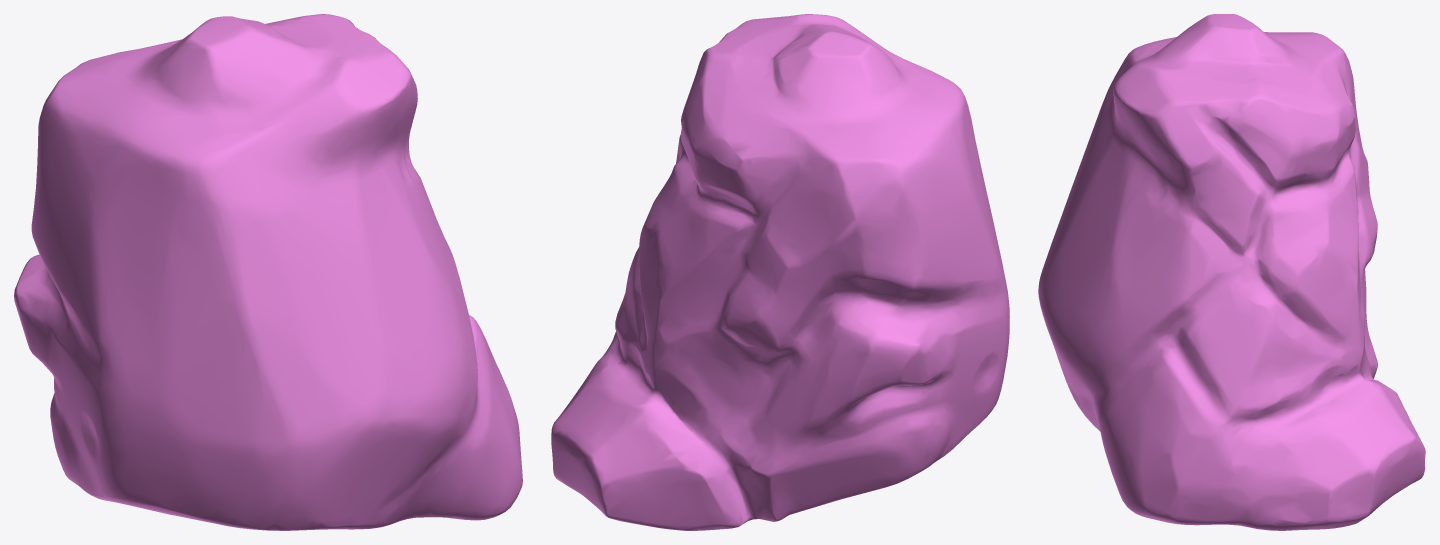
The model's file is Rock.fbx.
The picture shows the model from 3 angles, left to right: view 1: azimuth 30°, elevation 25°; view 2: azimuth 150°, elevation 25°; view 3: azimuth 270°, elevation 25°; orthographic projection. The views are drawn at different scales.
Parts seen in each view (by area): view 1: PM3D_Sphere3D_1; view 2: PM3D_Sphere3D_1; view 3: PM3D_Sphere3D_1.
Boxes of the visible parts, left/top/right/bottom form: PM3D_Sphere3D_1: left=14, top=14, right=522, bottom=530; PM3D_Sphere3D_1: left=551, top=14, right=1009, bottom=530; PM3D_Sphere3D_1: left=1038, top=14, right=1425, bottom=530.
Size of the model in its own units: 2.18 by 2.55 by 2.12.
